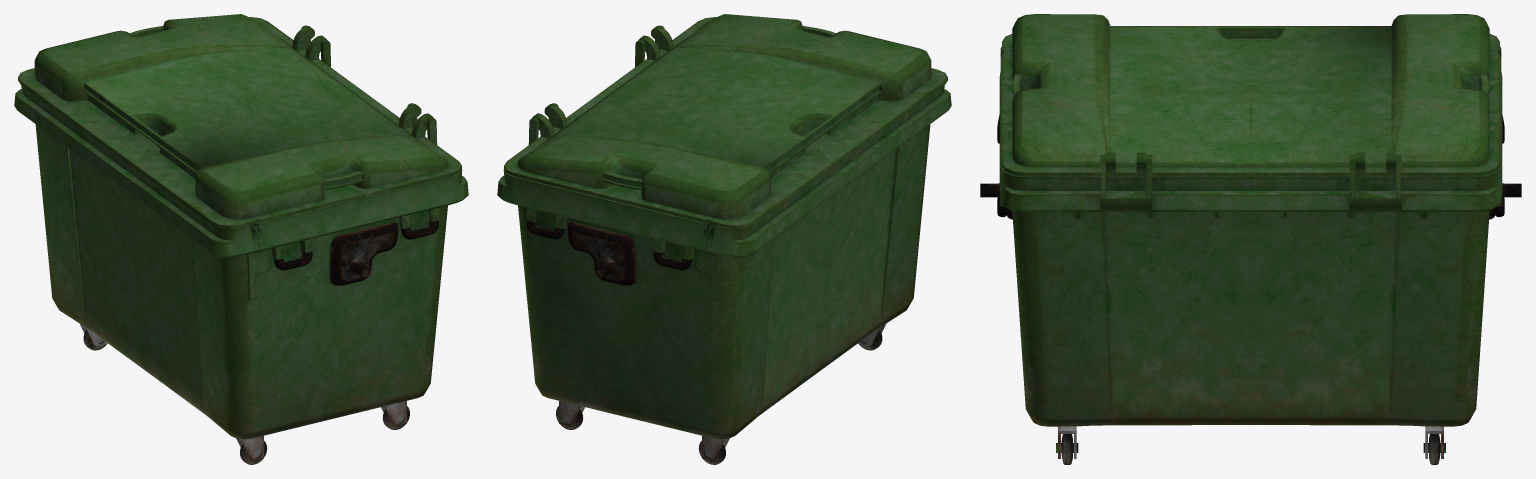
Rendered from Trashbin_02.fbx.
The picture shows the model from 3 angles, left to right: view 1: azimuth 30°, elevation 25°; view 2: azimuth 150°, elevation 25°; view 3: azimuth 270°, elevation 25°; orthographic projection. The views are drawn at different scales.
Parts seen in each view (by area): view 1: trashbin_big; view 2: trashbin_big; view 3: trashbin_big.
Boxes of the visible parts, left/top/right/bottom form: trashbin_big: left=14, top=14, right=468, bottom=464; trashbin_big: left=497, top=14, right=951, bottom=464; trashbin_big: left=980, top=14, right=1521, bottom=464.
Size of the model in its own units: 280 by 304 by 432.
